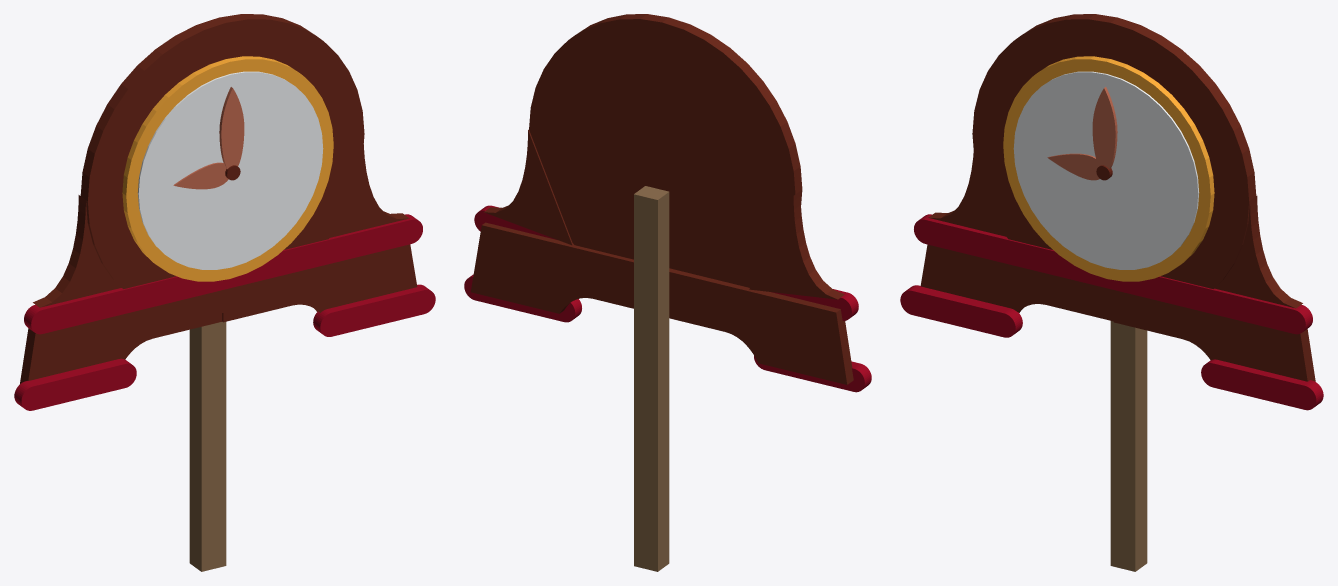
Rendered from horloge.glb.
3 renders of one model, left to right at view 1: azimuth 30°, elevation 25°; view 2: azimuth 150°, elevation 25°; view 3: azimuth 330°, elevation 25°, orthographic. The views are drawn at different scales.
Bounding box in the file's own units: 1 × 1.28 × 0.133.
